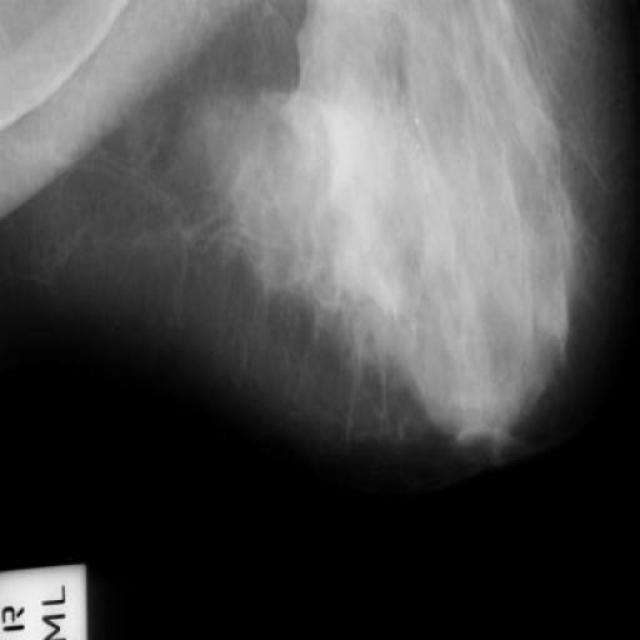tumor: (368, 258, 418, 342)
